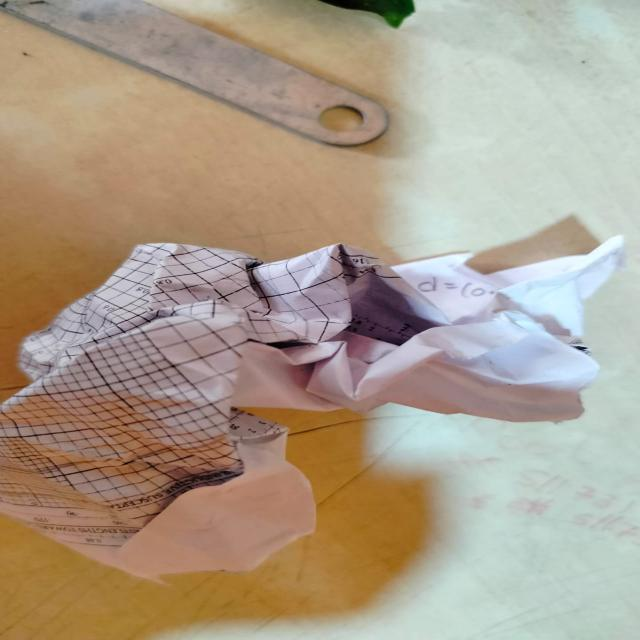Paper: (0, 216, 627, 580)
